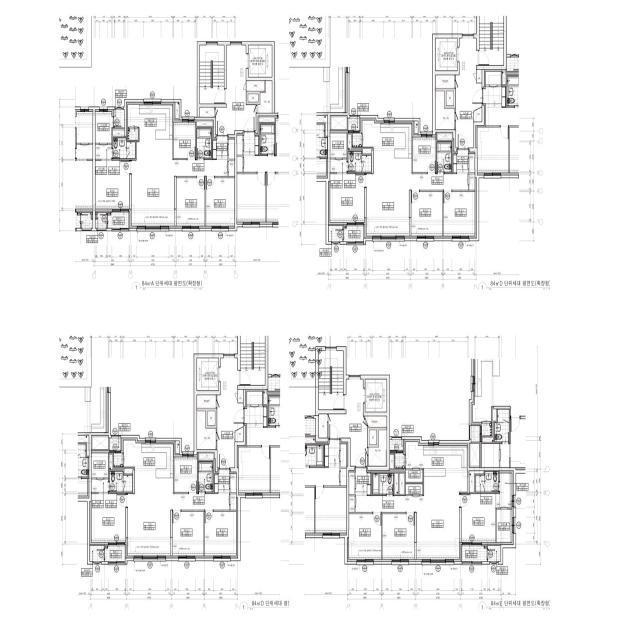space_balconi: (462, 545, 487, 561), (105, 546, 125, 562), (344, 226, 364, 242), (108, 213, 129, 228)
space_bedroom: (95, 161, 130, 209), (461, 494, 496, 542), (91, 494, 125, 542), (330, 174, 364, 222), (382, 514, 415, 559), (349, 514, 381, 559), (172, 512, 204, 556), (443, 192, 475, 236), (176, 178, 205, 226), (205, 512, 236, 556), (411, 192, 442, 236), (206, 178, 234, 226), (174, 457, 197, 492), (413, 137, 436, 172), (174, 122, 196, 158)
space_dressroom: (496, 473, 512, 542), (95, 112, 112, 159), (330, 133, 347, 172), (91, 453, 108, 492)
space_elevator: (249, 45, 272, 77), (197, 358, 219, 391), (365, 379, 387, 412), (436, 38, 457, 71)
space_elevator_hall: (216, 45, 256, 134), (328, 380, 367, 466), (456, 38, 482, 148), (217, 358, 243, 468)
space_front: (213, 136, 235, 159), (356, 468, 371, 495), (214, 470, 229, 494), (453, 150, 468, 174)
space_kitchen: (362, 121, 412, 174), (124, 440, 173, 494), (128, 105, 173, 160), (406, 442, 467, 468)
space_living_room: (356, 468, 467, 559), (132, 160, 234, 226), (366, 174, 468, 236), (128, 494, 229, 556)
space_other: (197, 411, 216, 449), (436, 91, 455, 129), (368, 430, 387, 466), (258, 81, 272, 113), (469, 471, 484, 492), (197, 395, 216, 408), (436, 75, 455, 88), (365, 416, 387, 427), (109, 454, 123, 470), (348, 135, 362, 150), (90, 546, 104, 561), (329, 226, 343, 241), (406, 470, 423, 482), (319, 414, 327, 438), (331, 117, 347, 129), (246, 81, 265, 91), (114, 110, 124, 128), (93, 437, 108, 449), (488, 546, 500, 561), (406, 484, 423, 494), (395, 453, 405, 468), (349, 472, 355, 495), (352, 133, 361, 147), (200, 108, 214, 117), (114, 453, 123, 467), (446, 91, 454, 106), (235, 427, 243, 442), (369, 430, 377, 445), (474, 107, 482, 122), (469, 154, 475, 173), (128, 129, 138, 140), (208, 411, 215, 426), (399, 473, 404, 494), (469, 174, 475, 190), (230, 494, 236, 510), (349, 496, 355, 512), (231, 474, 236, 493), (199, 454, 213, 460), (394, 473, 398, 494), (438, 134, 452, 140), (248, 94, 258, 102), (238, 390, 243, 403), (477, 70, 482, 83), (197, 122, 212, 126), (390, 455, 394, 469), (113, 131, 124, 136), (414, 121, 418, 133), (363, 149, 372, 154), (124, 469, 133, 474), (176, 441, 179, 453)
space_outdoor_room: (95, 213, 107, 228), (109, 438, 121, 450), (348, 118, 359, 130), (390, 440, 403, 450)
space_staircase: (479, 7, 504, 65), (200, 45, 224, 104), (319, 351, 343, 410), (241, 327, 265, 385)
space_toilet: (372, 473, 394, 494), (348, 152, 371, 172), (437, 142, 452, 172), (113, 138, 135, 158), (110, 472, 132, 492), (476, 472, 498, 492), (197, 128, 211, 158), (199, 462, 213, 492)
